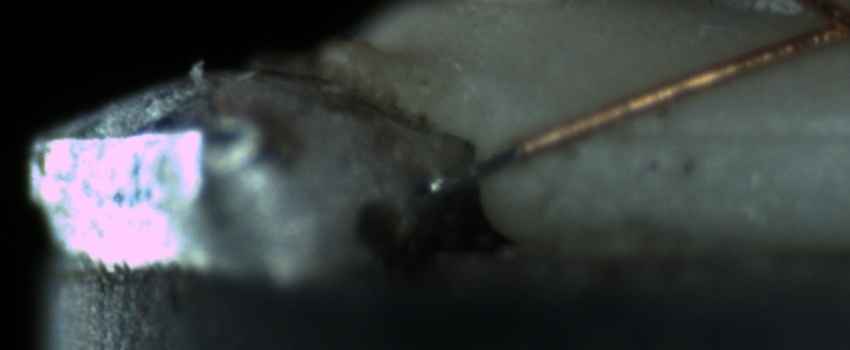CL: (773, 3, 849, 57)
DL: (603, 102, 847, 172)
TS: (419, 145, 524, 195)
